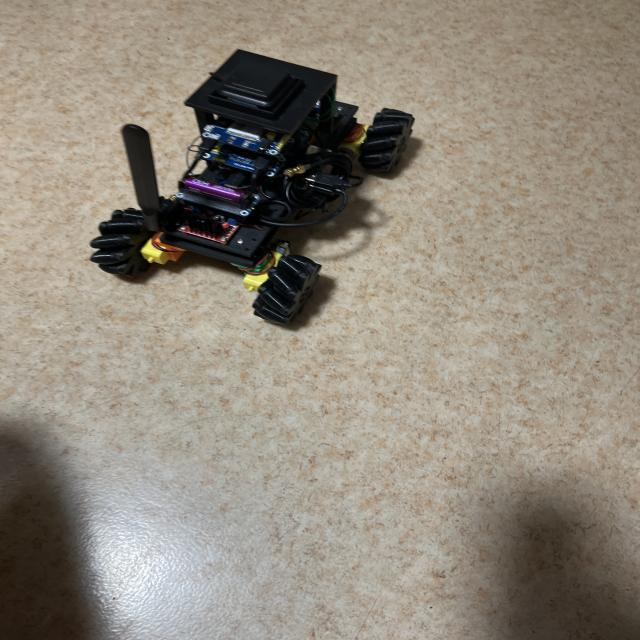robot: (90, 50, 414, 324)
